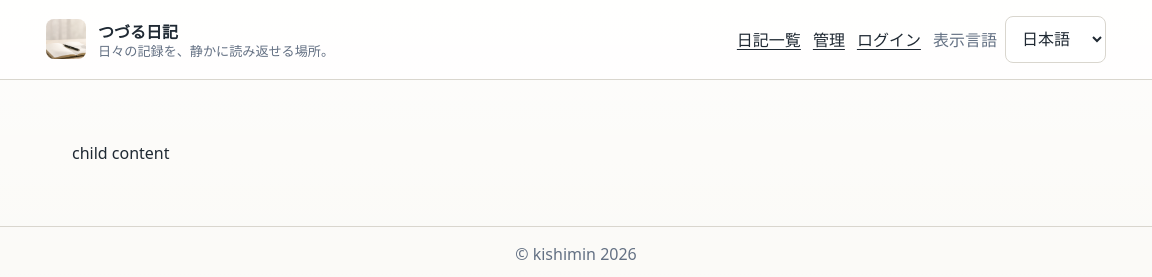
it: AppProviders › switches visible navigation copy when English is selected
This screenshot has width=1152, height=277.
Select "English" in the dropdown labelled "表示言語". click: (1055, 39)
box: [1005,16,1106,63]
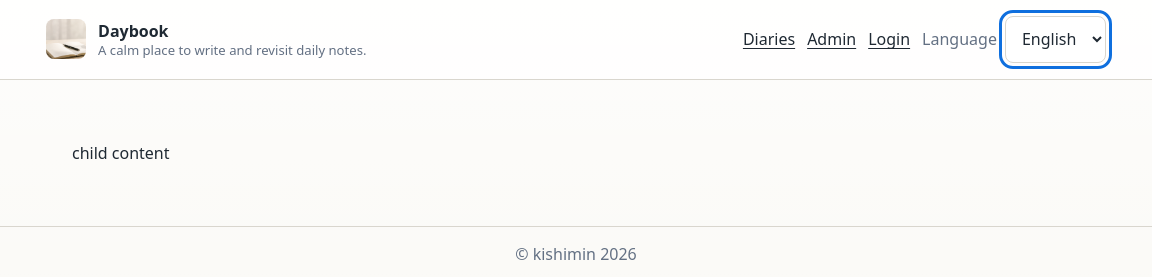
Expected: the picture with alt text "Daybook logo" is shown, [46,19,86,59]
Expected: the text "Daybook" is shown, [98,20,169,42]
